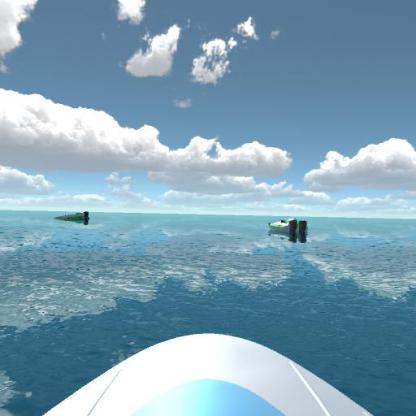usv0: (265, 210, 312, 245), (56, 204, 94, 228)
